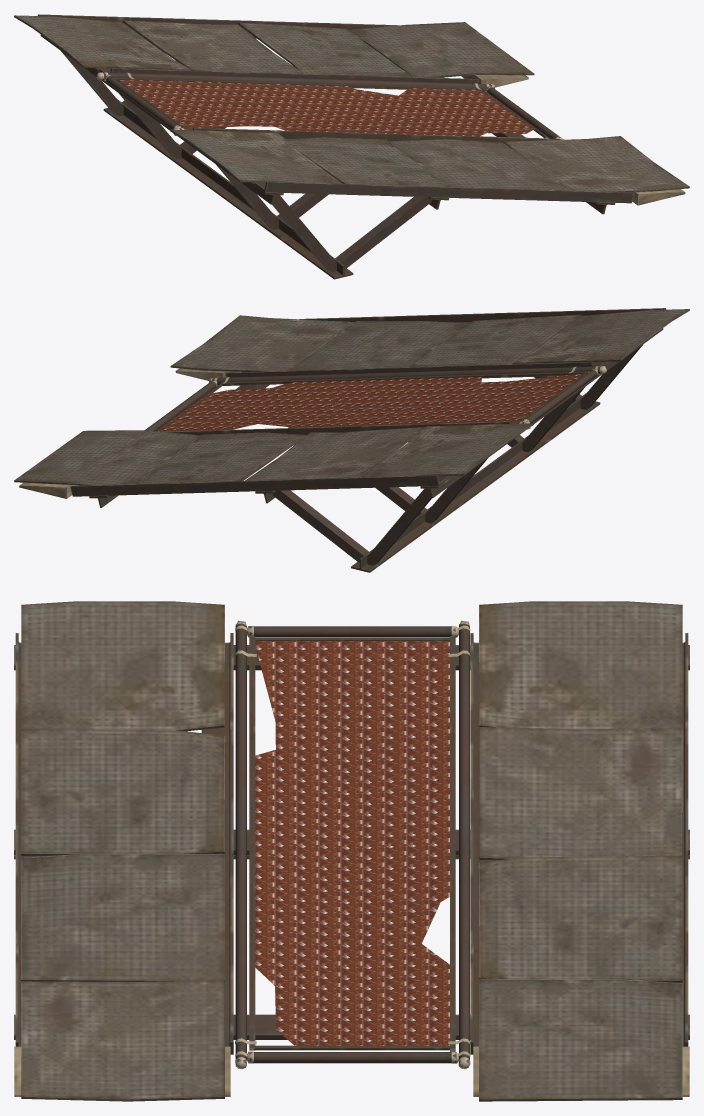
Rendered from ramp.75.metal.glb.
3 views of the same model, one above another, from view 1: azimuth 30°, elevation 25°; view 2: azimuth 150°, elevation 25°; view 3: azimuth 270°, elevation 25° (orthographic). The views are drawn at different scales.
Visible parts, largest first — view 1: ramp.75_LOD0; view 2: ramp.75_LOD0; view 3: ramp.75_LOD0.
Boxes of the visible parts, x1=… form: ramp.75_LOD0: x1=14, y1=14, x2=689, y2=279; ramp.75_LOD0: x1=14, y1=308, x2=689, y2=572; ramp.75_LOD0: x1=14, y1=601, x2=689, y2=1101.
Size of the model in its own units: 3 by 0.7806 by 2.66.
Materials: 2 (2 with a texture image).
